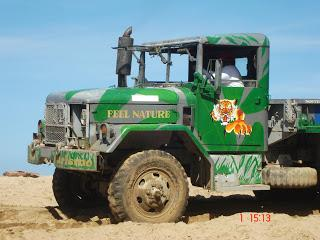truck: (28, 26, 320, 226)
